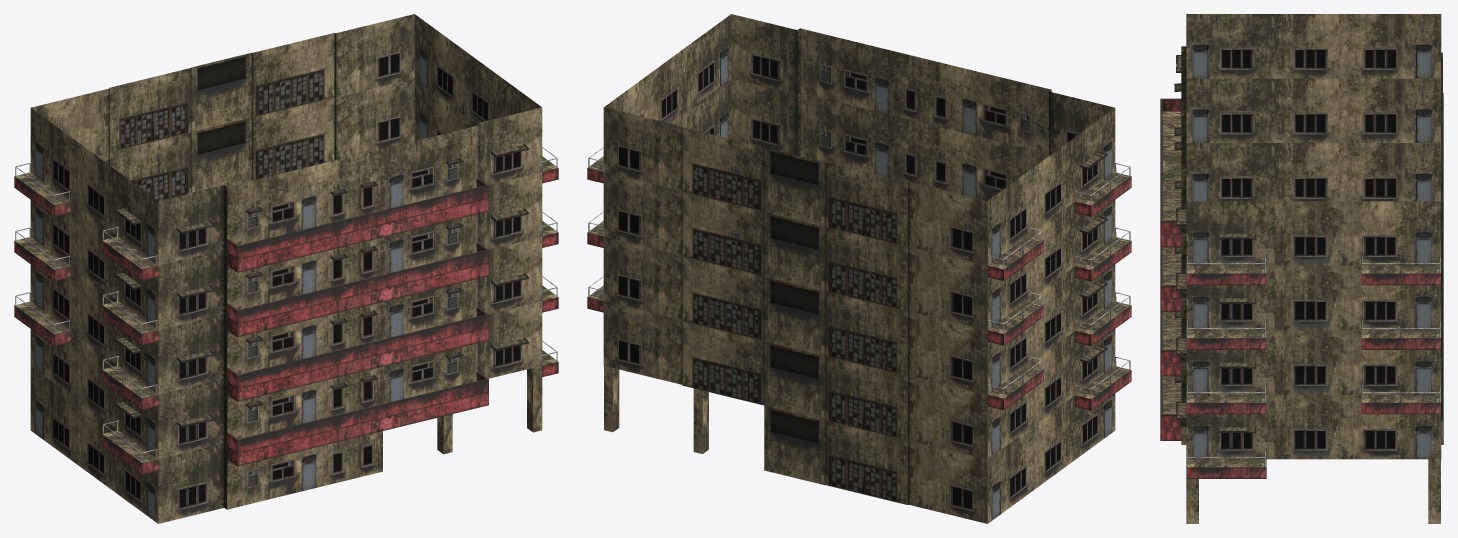
The model's file is Apt1_HDBase.FBX.
3 renders of one model, left to right at view 1: azimuth 30°, elevation 25°; view 2: azimuth 150°, elevation 25°; view 3: azimuth 270°, elevation 25°, orthographic.
Visible parts, largest first — view 1: Apt1_HDBase; view 2: Apt1_HDBase; view 3: Apt1_HDBase.
Part boxes in pixels (left/top/right/bottom): Apt1_HDBase: left=14, top=14, right=558, bottom=523; Apt1_HDBase: left=587, top=14, right=1131, bottom=523; Apt1_HDBase: left=1160, top=14, right=1443, bottom=523.
Bounding box in the file's own units: 3449 × 2555 × 2031.
Materials: 1 (1 with a texture image).
